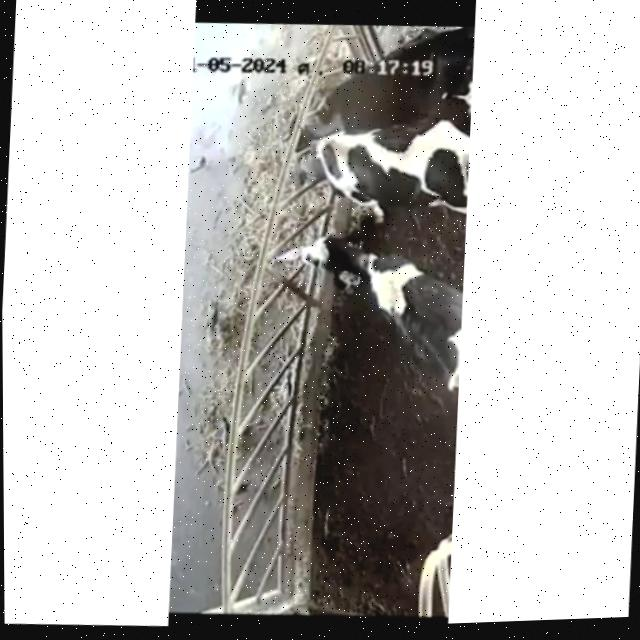eat: (216, 200, 404, 310), (250, 45, 409, 138), (242, 127, 400, 205)
